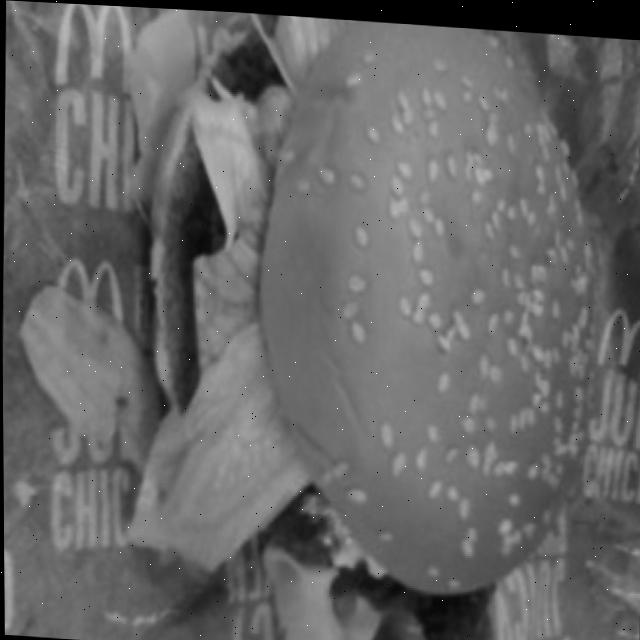汉堡快餐: (122, 5, 603, 640)
